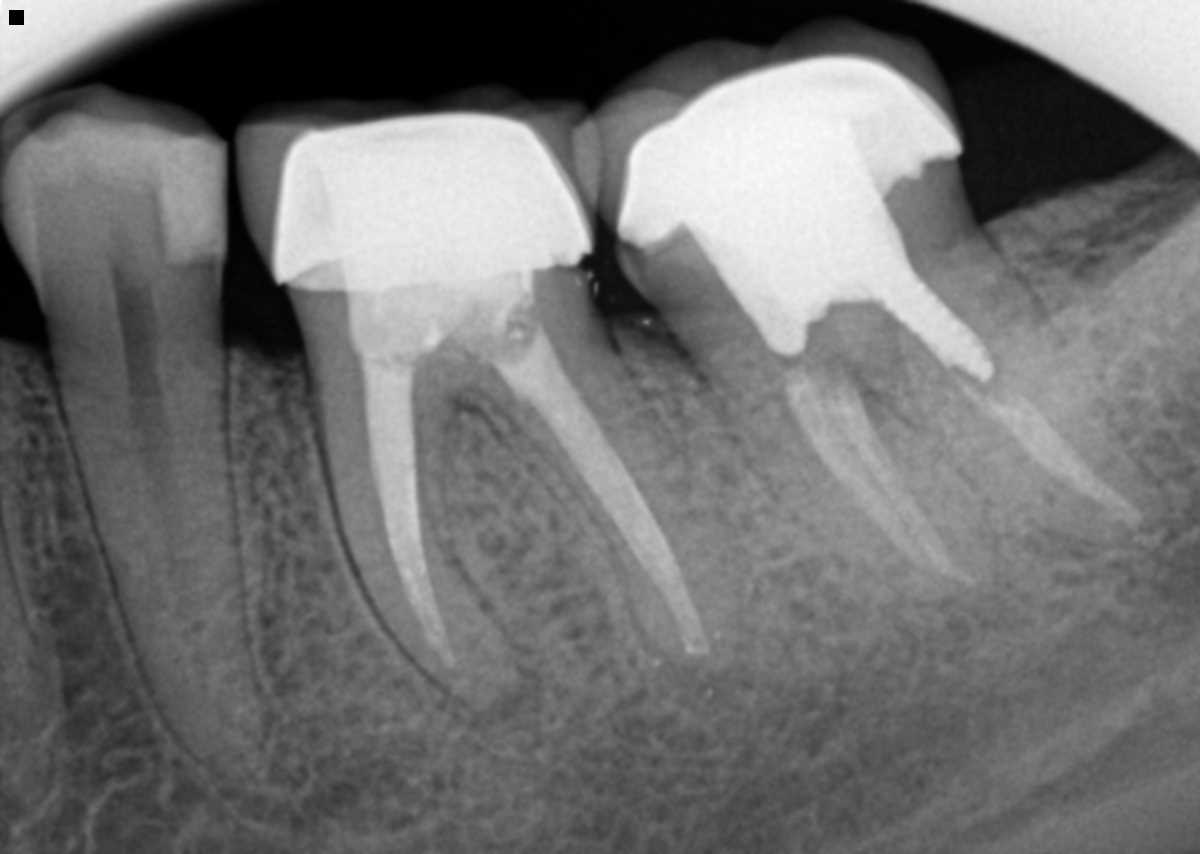Apical Lesion: (443, 651, 554, 752), (659, 657, 754, 718)
Distal Root: (871, 236, 1168, 549), (510, 335, 749, 684)
Main Canal: (119, 351, 201, 673)
Main Root: (43, 335, 272, 786)
Mesial Root: (689, 350, 999, 607), (295, 357, 516, 706)
Root Canal Filling: (494, 327, 712, 657), (793, 378, 974, 587), (360, 362, 459, 673), (958, 379, 1142, 525)
